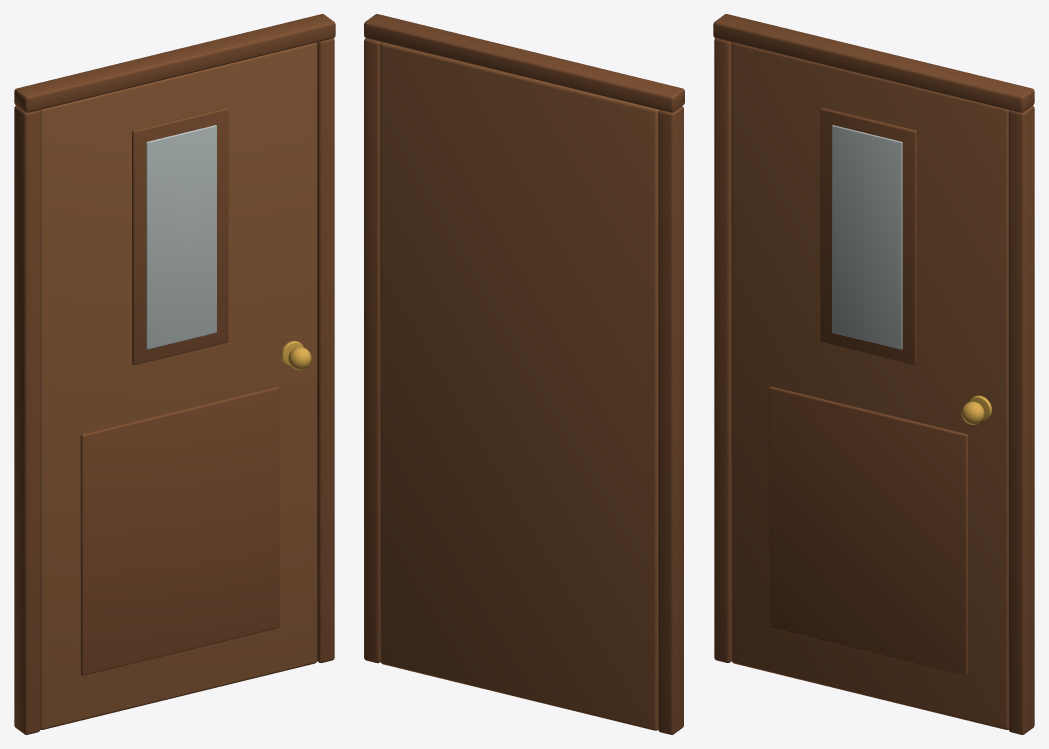
The model's file is door.glb.
The picture shows the model from 3 angles, left to right: view 1: azimuth 30°, elevation 25°; view 2: azimuth 150°, elevation 25°; view 3: azimuth 330°, elevation 25°; orthographic projection.
Visible parts, largest first — view 1: door_slab, door_panel, door_trim, door_glass, door_trim.001, door_trim_top, door_glass_frame; view 2: door_slab, door_trim, door_trim.001, door_trim_top; view 3: door_slab, door_panel, door_trim.001, door_glass, door_trim, door_trim_top, door_glass_frame.
Part boxes in pixels (x1,y1,x2,y2): door_slab: (39,42,317,729); door_panel: (80,386,279,675); door_trim: (14,105,40,734); door_glass: (146,125,216,349); door_trim.001: (317,38,334,662); door_trim_top: (14,14,335,112); door_glass_frame: (132,107,228,365); door_slab: (380,42,659,730); door_trim: (658,106,683,734); door_trim.001: (364,38,381,663); door_trim_top: (364,14,684,112); door_slab: (731,42,1009,729); door_panel: (769,386,968,675); door_trim.001: (1008,105,1034,734); door_glass: (832,125,902,349); door_trim: (714,38,731,662); door_trim_top: (713,14,1034,112); door_glass_frame: (820,107,916,365).
Size of the model in its own units: 0.97 by 1.91 by 0.135.
